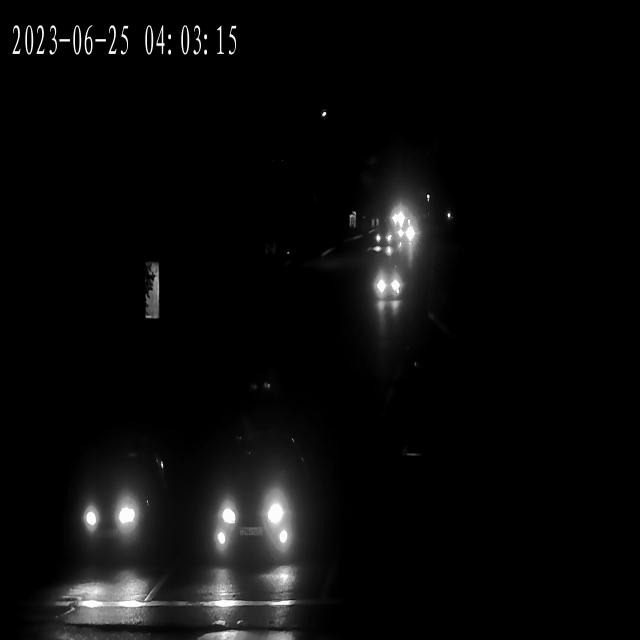Car: (73, 440, 164, 558), (201, 452, 301, 557), (370, 268, 402, 305), (370, 228, 395, 252), (396, 225, 418, 248), (392, 226, 416, 246)
